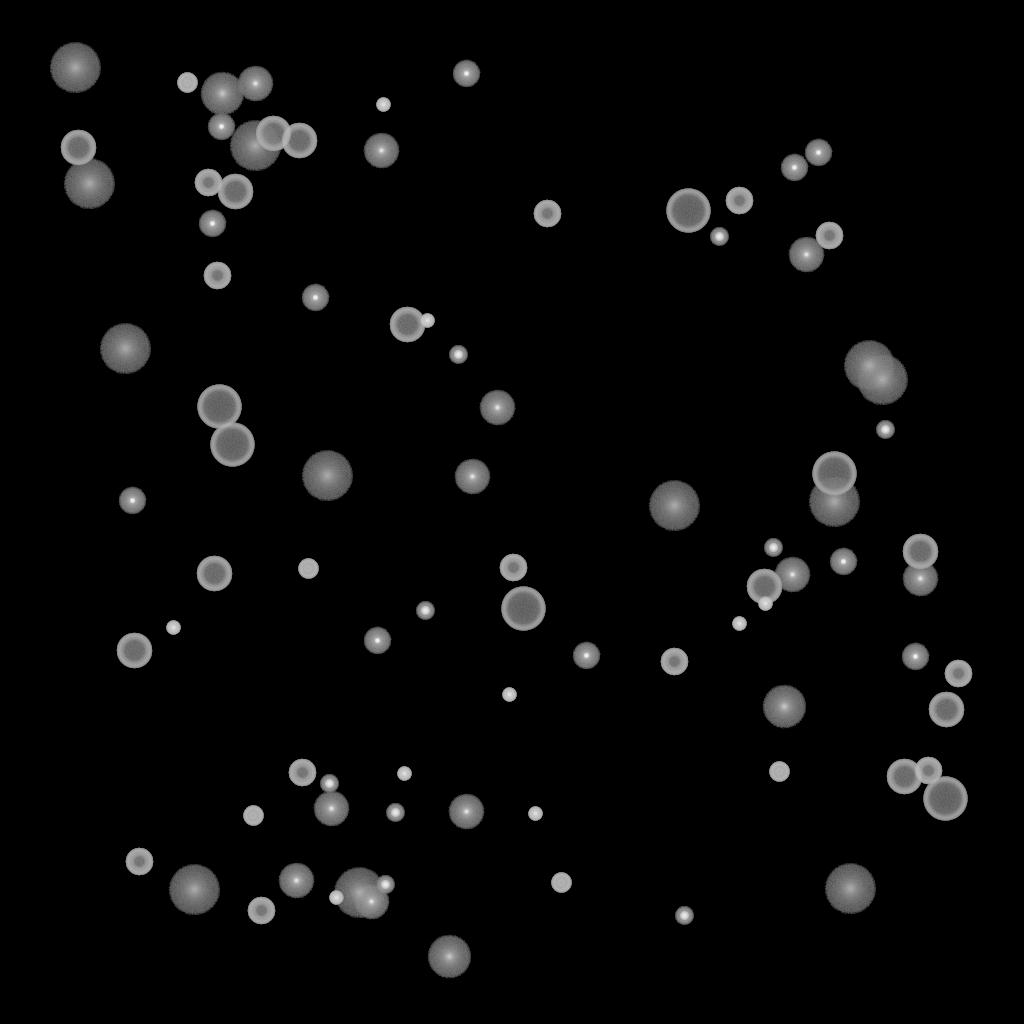depth:-10: (804, 139, 832, 167), (901, 643, 929, 671), (198, 210, 226, 238), (452, 60, 480, 88), (301, 284, 329, 312), (829, 548, 857, 576), (207, 113, 235, 141), (780, 154, 808, 182), (363, 627, 391, 655), (572, 642, 600, 670), (118, 487, 146, 515)
depth:-20: (320, 775, 338, 793), (449, 346, 467, 364), (710, 228, 728, 246), (876, 421, 894, 439), (416, 602, 434, 620), (675, 907, 693, 925), (764, 539, 782, 557), (376, 876, 394, 894), (386, 804, 404, 822)
depth:-30: (758, 597, 772, 611), (166, 621, 180, 635), (329, 891, 343, 905), (732, 617, 746, 631), (420, 314, 434, 328), (397, 767, 411, 781), (502, 688, 516, 702), (376, 98, 390, 112), (528, 807, 542, 821)
depth:-40: (298, 559, 318, 579), (769, 762, 789, 782), (243, 806, 263, 826), (177, 73, 197, 93), (551, 873, 571, 893)
depth:-50: (725, 187, 753, 215), (247, 897, 275, 925), (499, 554, 527, 582), (660, 648, 688, 676), (815, 222, 843, 250), (125, 848, 153, 876), (533, 200, 561, 228), (194, 169, 222, 197), (288, 759, 316, 787), (944, 660, 972, 688), (914, 757, 942, 785), (203, 262, 231, 290)
depth:-60: (217, 174, 253, 210), (281, 123, 317, 159), (746, 569, 782, 605), (60, 130, 96, 166), (389, 307, 425, 343), (196, 556, 232, 592), (902, 534, 938, 570), (255, 116, 291, 152), (116, 633, 152, 669), (886, 759, 922, 795), (928, 692, 964, 728)
depth:-70: (197, 385, 241, 429), (812, 452, 856, 496), (210, 423, 254, 467), (501, 587, 545, 631), (666, 189, 710, 233), (923, 777, 967, 821)
depth:0: (313, 791, 349, 827), (479, 390, 515, 426), (278, 863, 314, 899), (788, 237, 824, 273), (363, 133, 399, 169), (237, 66, 273, 102), (353, 884, 389, 920), (448, 794, 484, 830), (774, 557, 810, 593), (902, 561, 938, 597), (454, 459, 490, 495)
depth:10: (762, 685, 806, 729), (427, 935, 471, 979), (200, 72, 244, 116)
depth:20: (808, 477, 860, 527), (168, 865, 220, 915), (229, 121, 281, 171), (843, 341, 895, 391), (824, 864, 876, 914), (301, 451, 353, 501), (49, 43, 101, 93), (333, 868, 385, 918), (99, 324, 151, 374), (856, 355, 908, 405), (648, 481, 700, 531), (63, 159, 115, 209)
